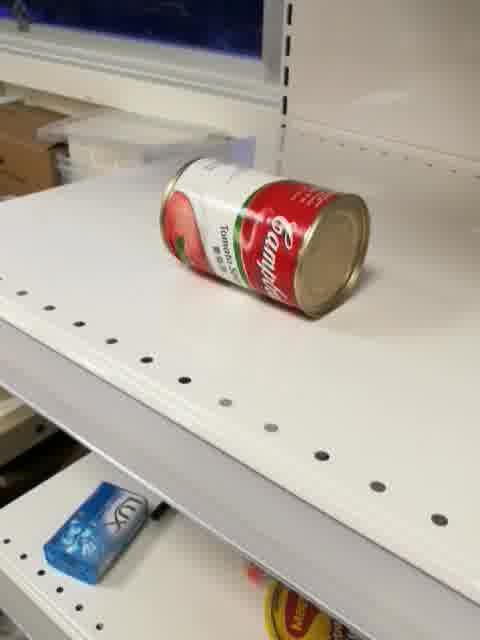tomatosoup: (157, 154, 371, 321)
